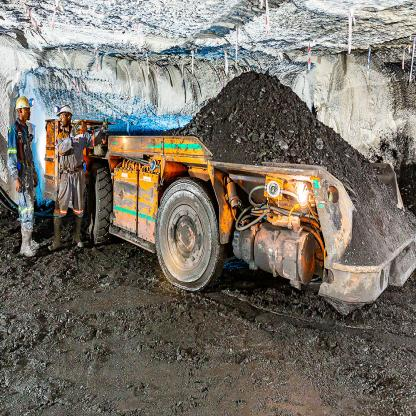person: (48, 94, 108, 260), (3, 92, 44, 265)
